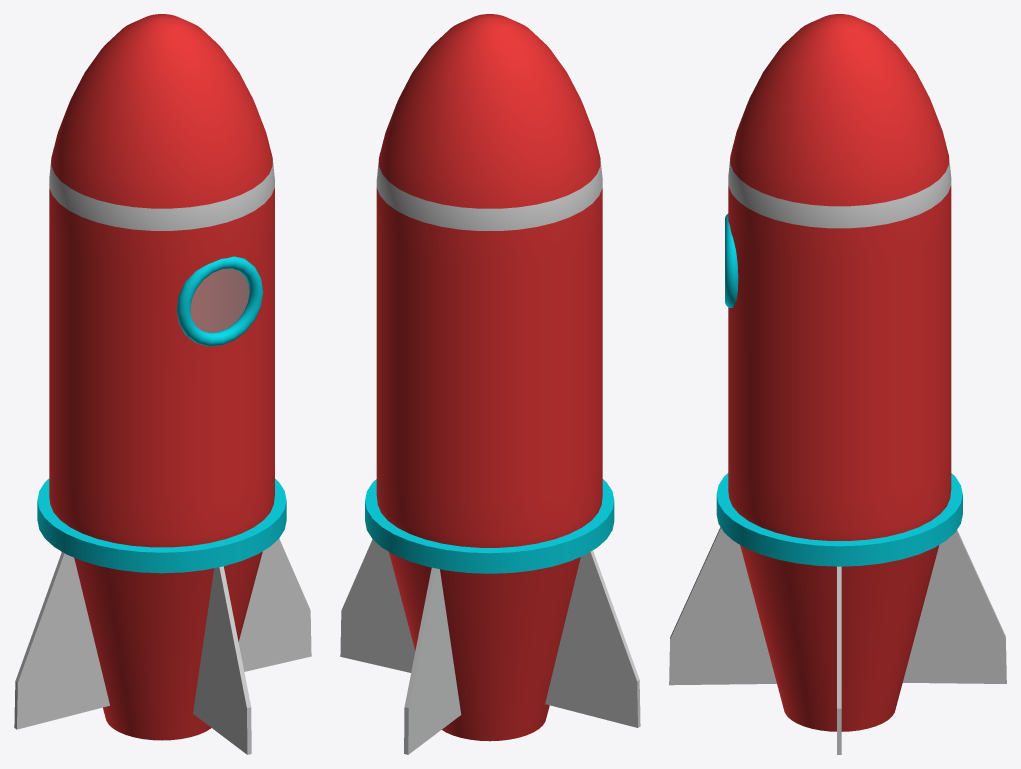
The model's file is Missile1.fbx.
3 views of the same model, side by side, from view 1: azimuth 30°, elevation 25°; view 2: azimuth 150°, elevation 25°; view 3: azimuth 270°, elevation 25° (orthographic).
Parts seen in each view (by area): view 1: polySurface39; view 2: polySurface39; view 3: polySurface39.
Part boxes in pixels (x1,y1,x2,y2): polySurface39: (14, 14, 311, 754); polySurface39: (340, 14, 640, 754); polySurface39: (669, 14, 1006, 754).
Bounding box in the file's own units: 8.93 × 20.12 × 8.93.
